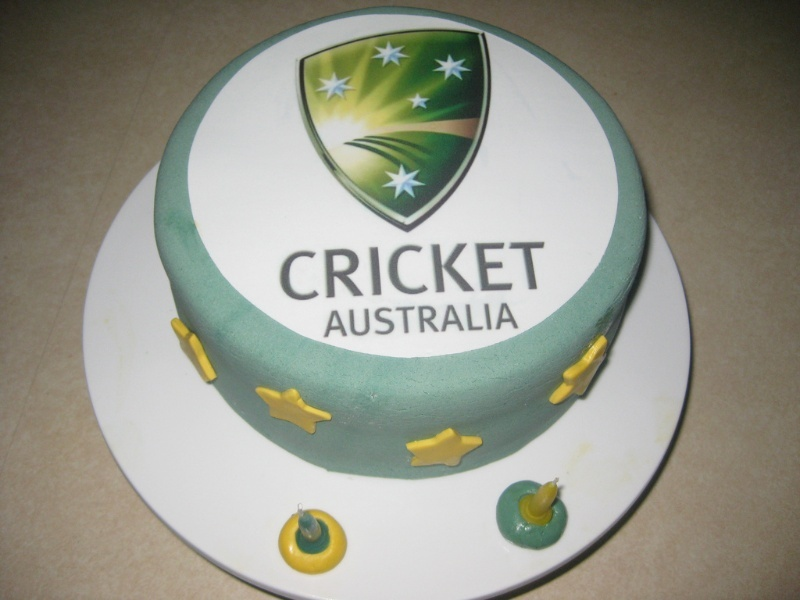text: (289, 240, 304, 301), (305, 240, 320, 301), (321, 240, 336, 301), (337, 240, 352, 301), (353, 240, 368, 301), (369, 240, 384, 301), (385, 240, 400, 301), (401, 240, 416, 301), (417, 240, 432, 301), (433, 240, 448, 301), (449, 240, 464, 301), (465, 240, 480, 301), (481, 240, 496, 301), (497, 240, 512, 301), (513, 240, 528, 301), (529, 240, 544, 301), (337, 301, 352, 340), (353, 301, 368, 340), (369, 301, 384, 340), (385, 301, 400, 340), (401, 301, 416, 340), (417, 301, 432, 340), (433, 301, 448, 340), (449, 301, 464, 340), (465, 301, 480, 340), (481, 301, 496, 340), (497, 301, 512, 340), (282, 240, 288, 301), (513, 301, 522, 340), (331, 301, 336, 340), (545, 240, 546, 301)
